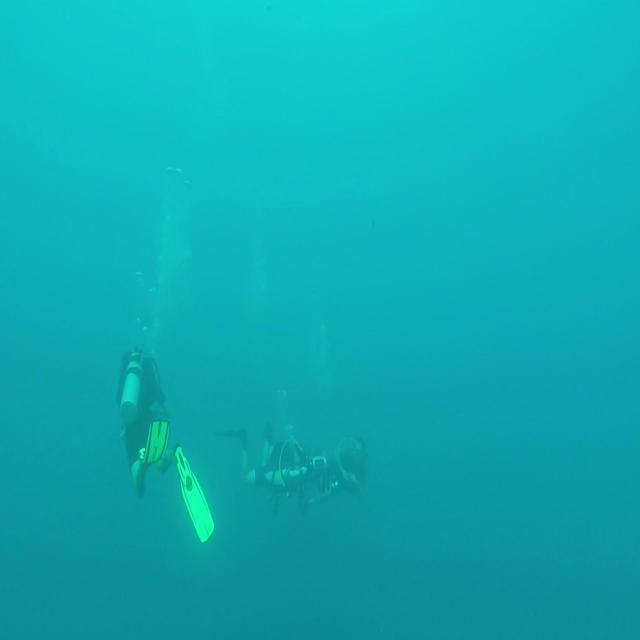human: (222, 412, 371, 510), (116, 345, 175, 499)
